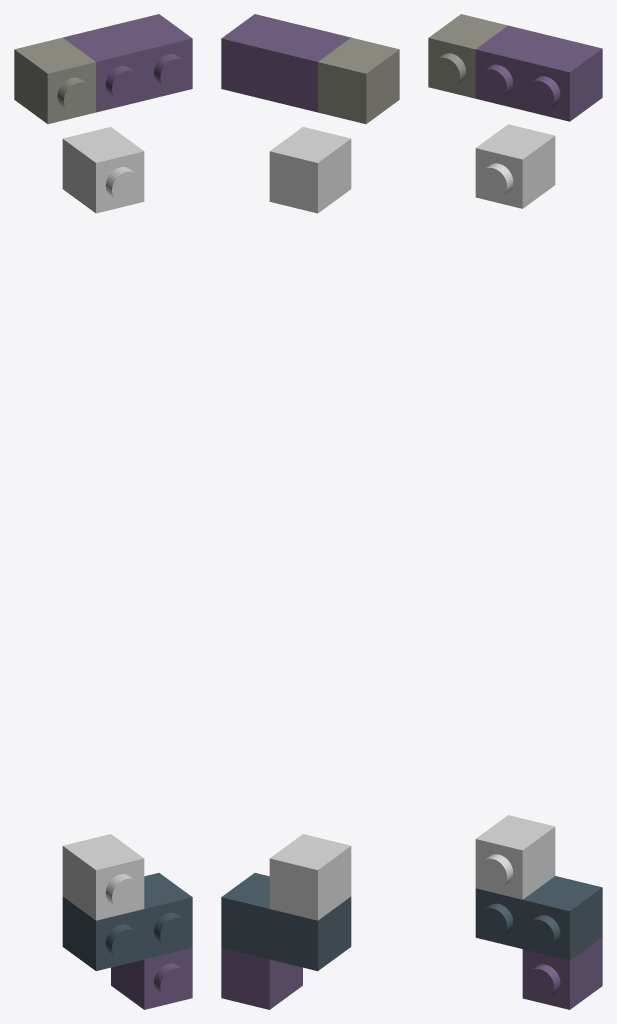
File: current.glb
The picture shows the model from 3 angles, left to right: view 1: azimuth 30°, elevation 25°; view 2: azimuth 150°, elevation 25°; view 3: azimuth 330°, elevation 25°; orthographic projection. The views are drawn at different scales.
Parts seen in each view (by area): view 1: world; view 2: world; view 3: world.
Boxes of the visible parts, x1,y1,x2,y2 form: world: (14,14,192,1009); world: (221,14,399,1009); world: (428,14,602,1009).
Size of the model in its own units: 24 by 152 by 11.4.
